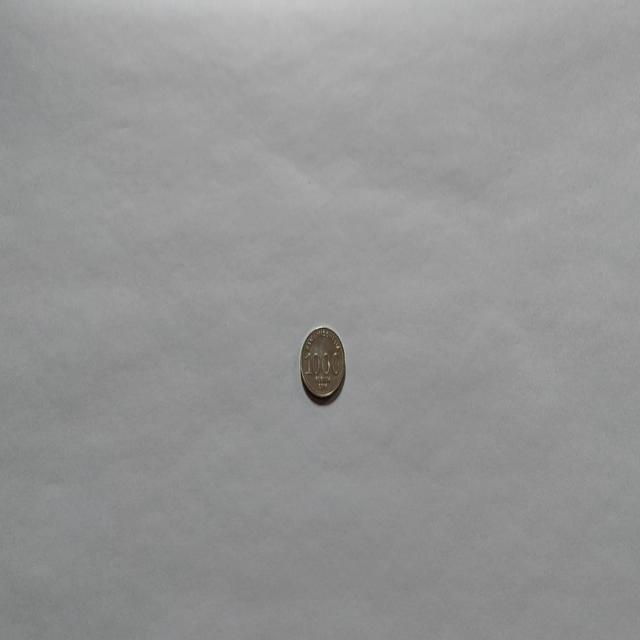seribu rupiah koin: (298, 324, 346, 404)
